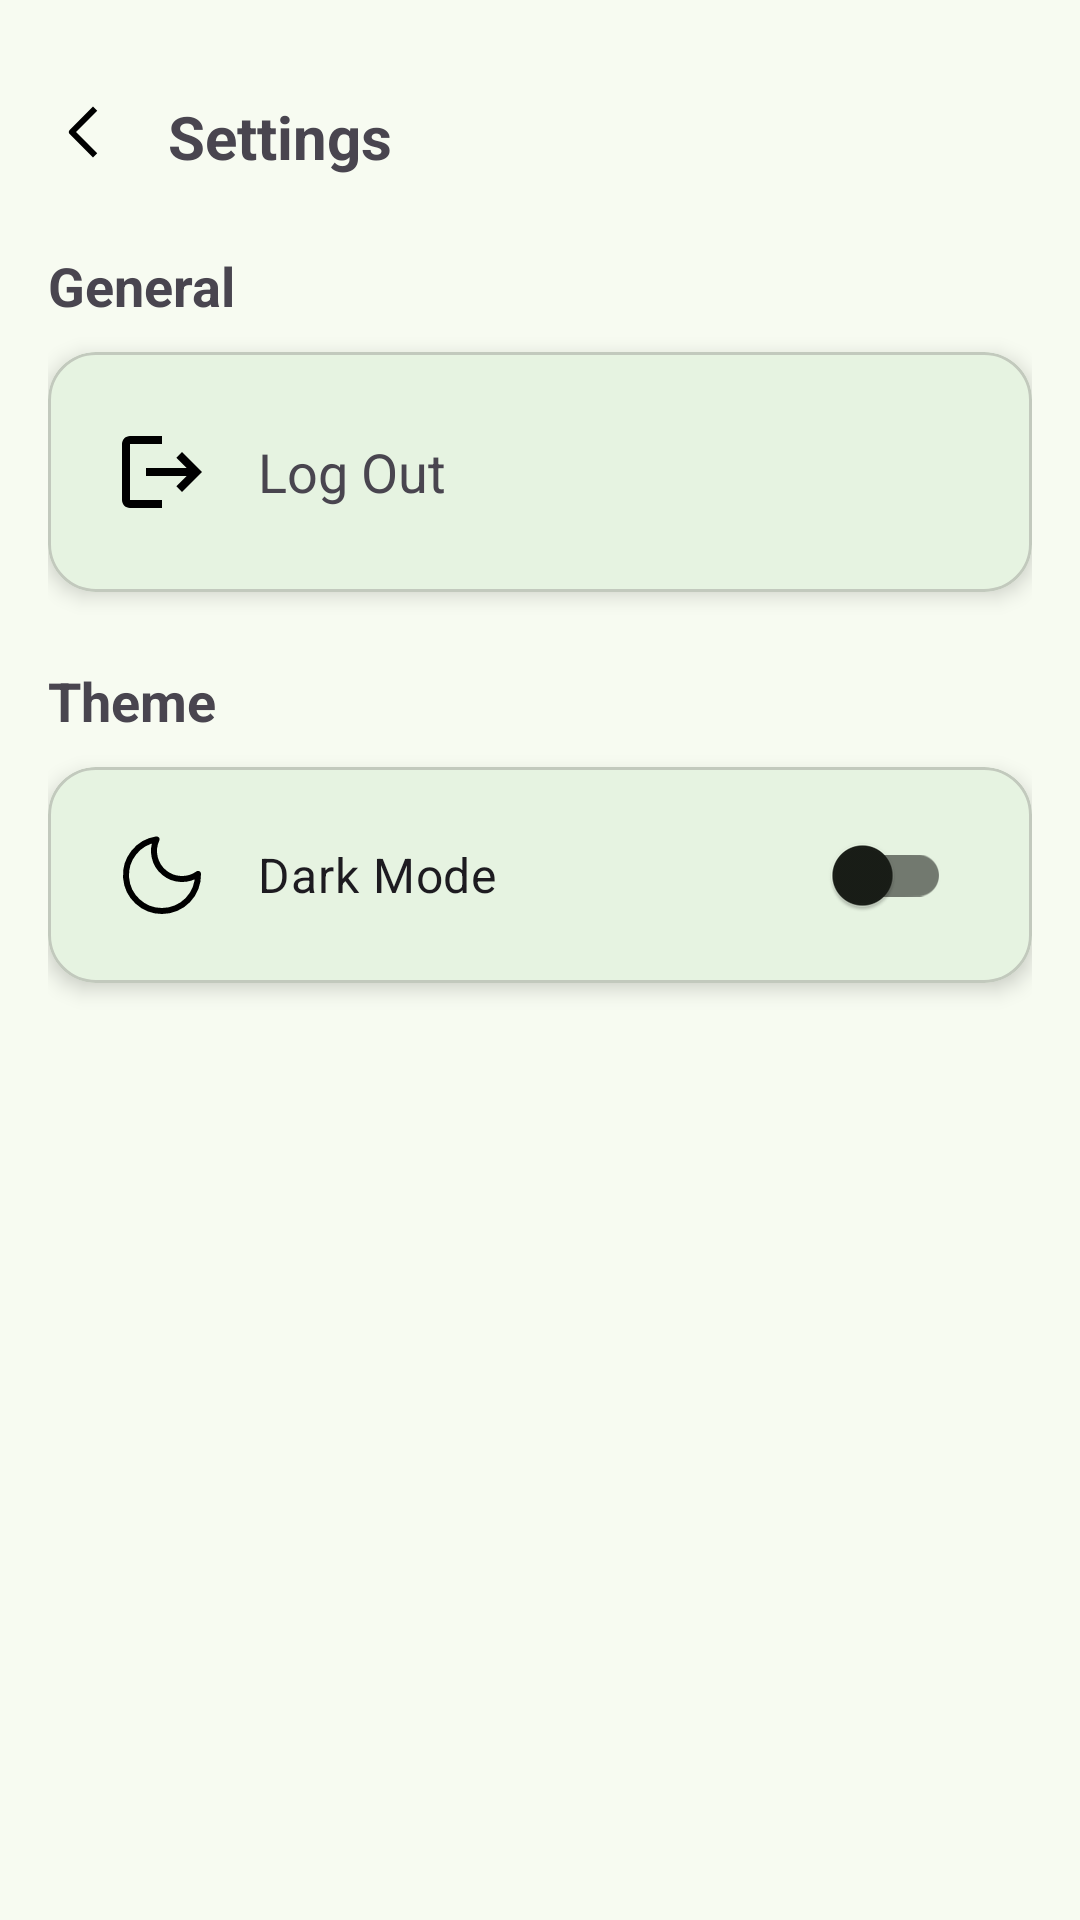

Icon click points for this 1080*1920 phone screenshot, format (x=x, y=y):
Back: (x=82, y=132)
